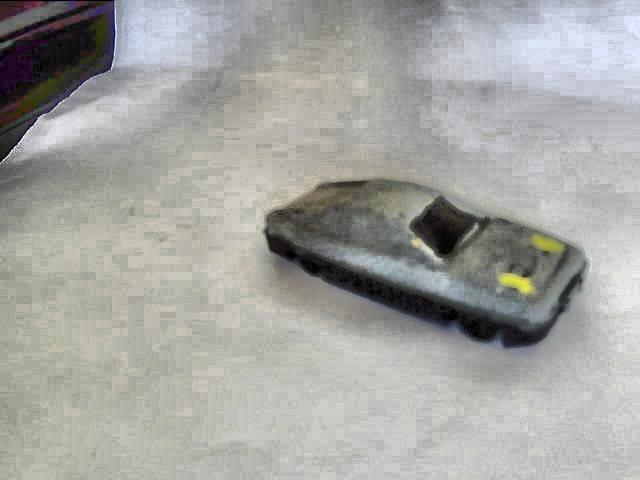normal_car: (261, 175, 590, 348)
